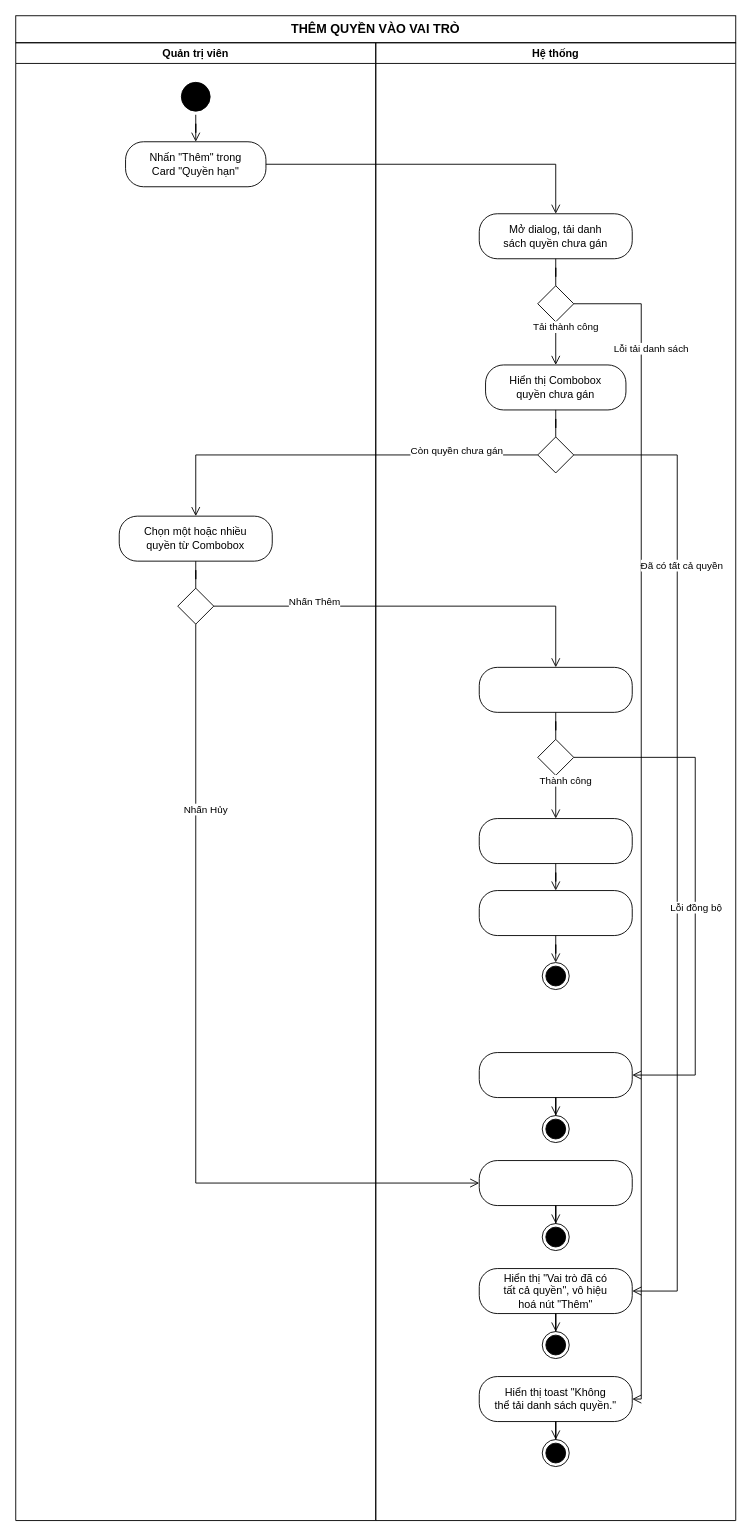
Image size: 752x1536. Some labels were removed from this diagram. Each missing label, with the box of its shape:
Hiển thị toast "Đã thêm quyền vào vai trò.": (478, 818, 632, 864)
Hiển thị toast lỗi tương ứng từ máy chủ: (478, 1052, 632, 1098)
Đóng dialog, bỏ chọn các quyền đã chọn: (478, 1160, 632, 1206)
Đóng dialog, làm mới danh sách quyền: (478, 890, 632, 936)
Đồng bộ danh sách quyền mới vào vai trò: (478, 666, 632, 712)
